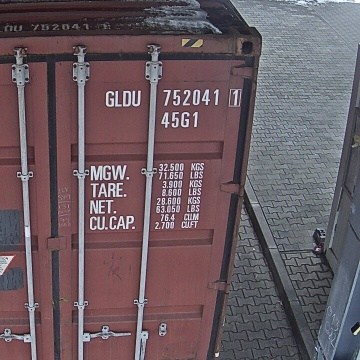serial_id: (105, 89, 239, 107)
